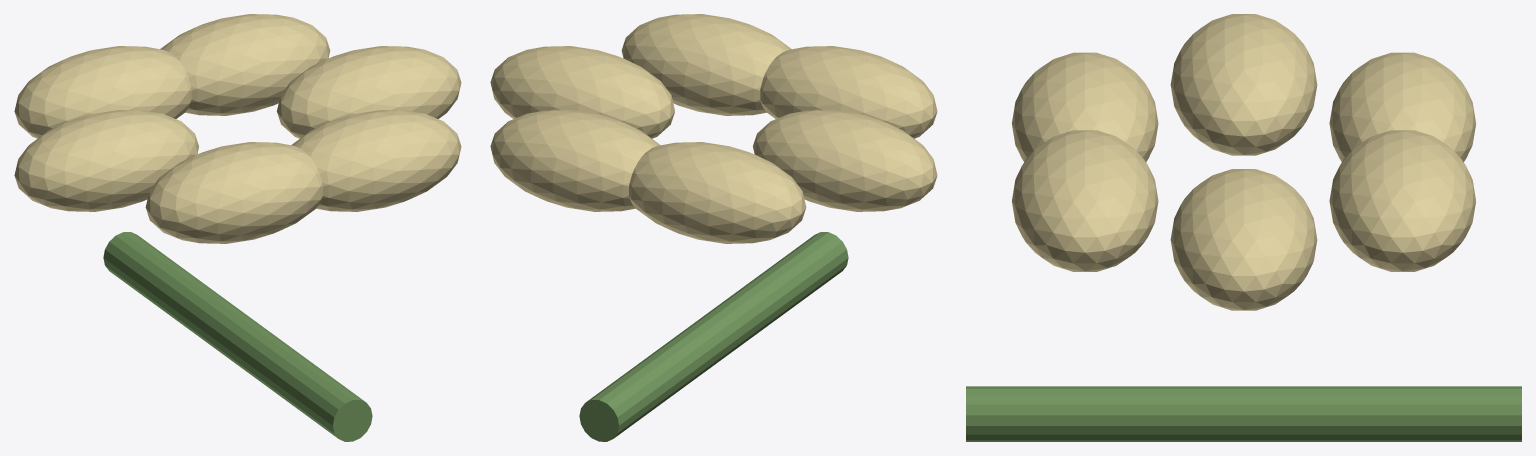
File: flower-gold.glb
3 views of the same model, side by side, from view 1: azimuth 30°, elevation 25°; view 2: azimuth 150°, elevation 25°; view 3: azimuth 270°, elevation 25° (orthographic). The views are drawn at different scales.
Visible parts, largest first — view 1: world; view 2: world; view 3: world.
Part boxes in pixels (x1=…): world: x1=14, y1=14, x2=461, y2=441; world: x1=490, y1=14, x2=937, y2=441; world: x1=966, y1=14, x2=1521, y2=441.
Bounding box in the file's own units: 1.1 × 0.649 × 1.
